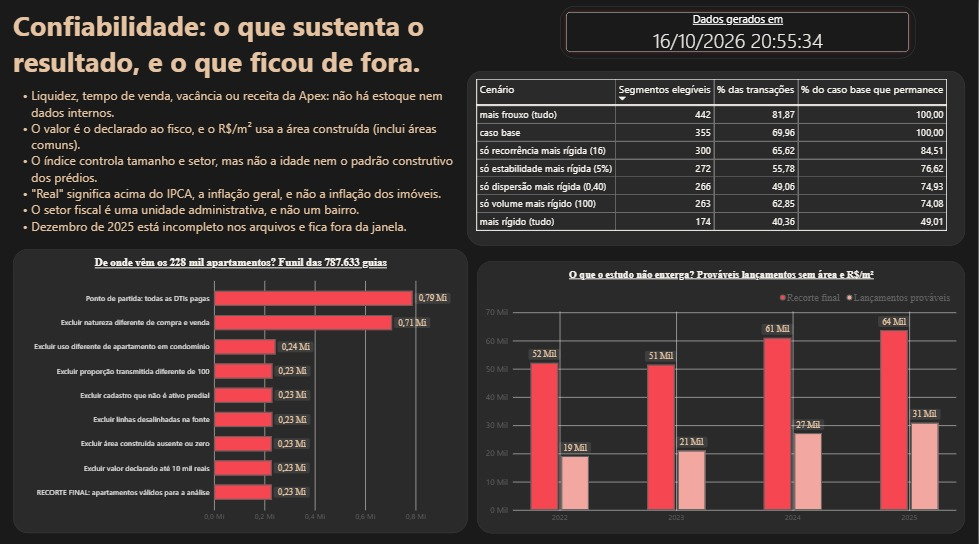

What the dashboard file says about the page in this screenshot:
{"tool":"powerbi","page":{"name":"Confiabilidade","canvas":[1920,1080],"ordinal":2},"visuals":[{"type":"barChart","title":"De onde vêm os 228 mil apartamentos? Funil das 787.633 guias","fields":{"Category":["analytics vw_funil_exclusao.regra"],"Y":["Sum(analytics vw_funil_exclusao.restantes)"]},"box":[25,495,892.5,557.5],"z":0},{"type":"clusteredColumnChart","title":"O que o estudo não enxerga? Prováveis lançamentos sem área e R$/m²","fields":{"Category":["analytics vw_funil_por_ano.ano_pagamento"],"Y":["Sum(analytics vw_funil_por_ano.recorte_final)","Sum(analytics vw_funil_por_ano.lancamentos_provaveis_fora)"]},"box":[937.5,517.5,957.5,535],"z":3},{"type":"tableEx","fields":{"Values":["analytics res_cenarios_elegiveis.cenario","analytics res_cenarios_elegiveis.segmentos","analytics res_cenarios_elegiveis.pct_transacoes","analytics res_cenarios_elegiveis.pct_caso_base_que_permanece"]},"box":[917.5,145,977.5,342.5],"z":4},{"type":"cardVisual","fields":{"Data":["analytics res_segmentos.Dados gerados em"]},"box":[1100,17.5,697.5,102.5],"z":5},{"type":"textbox","box":[25,17.5,850,160],"z":6},{"type":"textbox","box":[25,177.5,875,292.5],"z":7}]}

Visuals, with their boxes in screenshot pixels (x1, y1, x2, y2), scaled from the page's 1920x1080 canvas onto the 979x544 screenshot:
"De onde vêm os 228 mil apartamentos? Funil das 787.633 guias" barChart: <region>13, 249, 468, 530</region>
"O que o estudo não enxerga? Prováveis lançamentos sem área e R$/m²" clusteredColumnChart: <region>478, 261, 966, 530</region>
tableEx - analytics res_cenarios_elegiveis.cenario x analytics res_cenarios_elegiveis.segmentos: <region>468, 73, 966, 246</region>
cardVisual - analytics res_segmentos.Dados gerados em: <region>561, 9, 917, 60</region>
textbox: <region>13, 9, 446, 89</region>
textbox: <region>13, 89, 459, 237</region>
